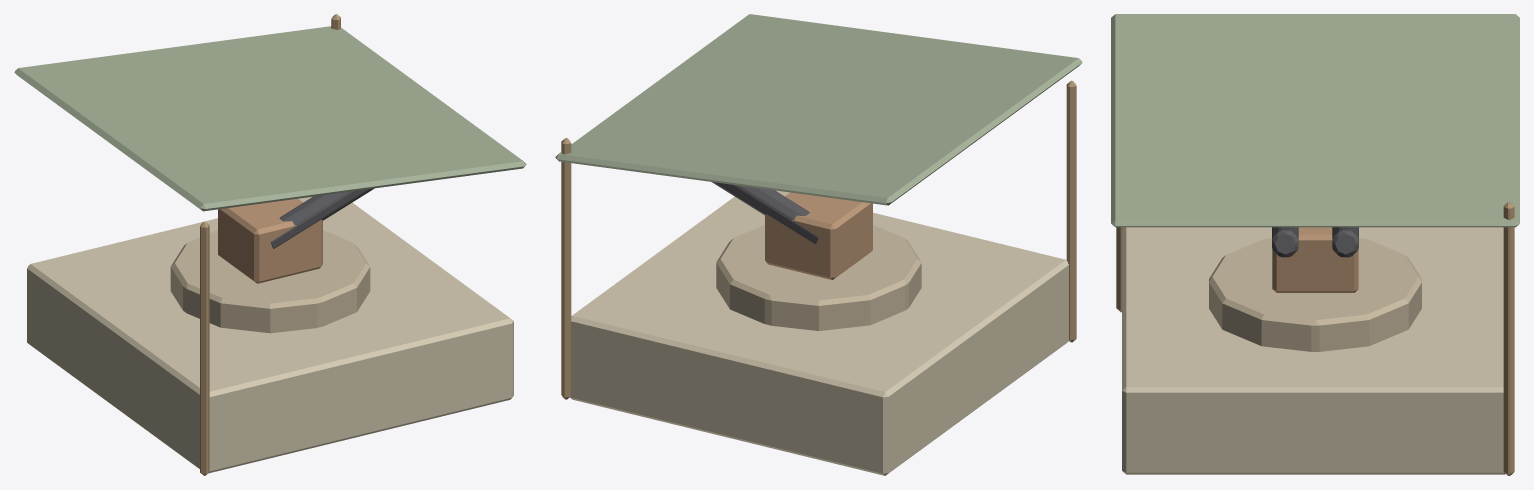
The model's file is stinger_site.glb.
3 renders of one model, left to right at view 1: azimuth 30°, elevation 25°; view 2: azimuth 150°, elevation 25°; view 3: azimuth 270°, elevation 25°, orthographic. The views are drawn at different scales.
Visible parts, largest first — view 1: Hull, Turret; view 2: Hull, Turret; view 3: Hull, Turret.
Part boxes in pixels (<box>): Hull: <box>14,14,526,475</box>; Turret: <box>218,188,374,283</box>; Hull: <box>555,14,1082,475</box>; Turret: <box>712,182,872,279</box>; Hull: <box>1111,14,1519,475</box>; Turret: <box>1272,227,1358,292</box>.
Bounding box in the file's own units: 1.89 × 1.52 × 1.9.
